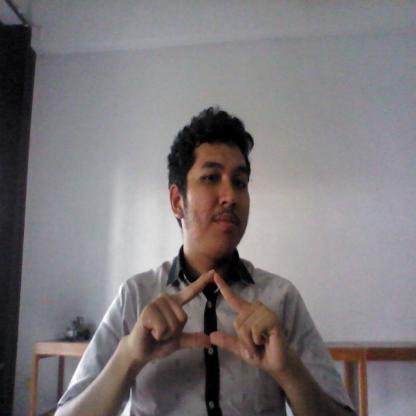A: (126, 266, 292, 373)
